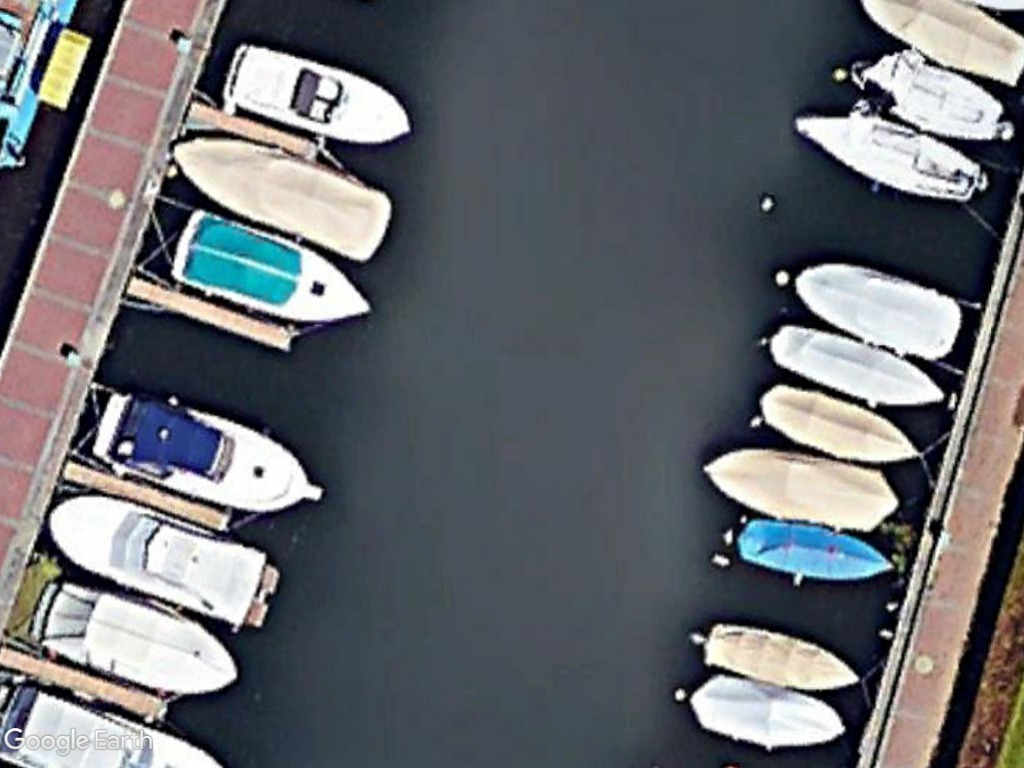boat: (39, 494, 284, 633), (165, 128, 403, 265), (89, 386, 329, 517), (166, 205, 384, 321), (26, 579, 243, 692), (780, 101, 984, 204), (217, 39, 417, 144), (789, 262, 964, 366), (696, 446, 902, 534), (841, 53, 1018, 152), (764, 323, 947, 412), (746, 381, 925, 469), (684, 670, 851, 754), (694, 618, 864, 694), (728, 514, 894, 586)
